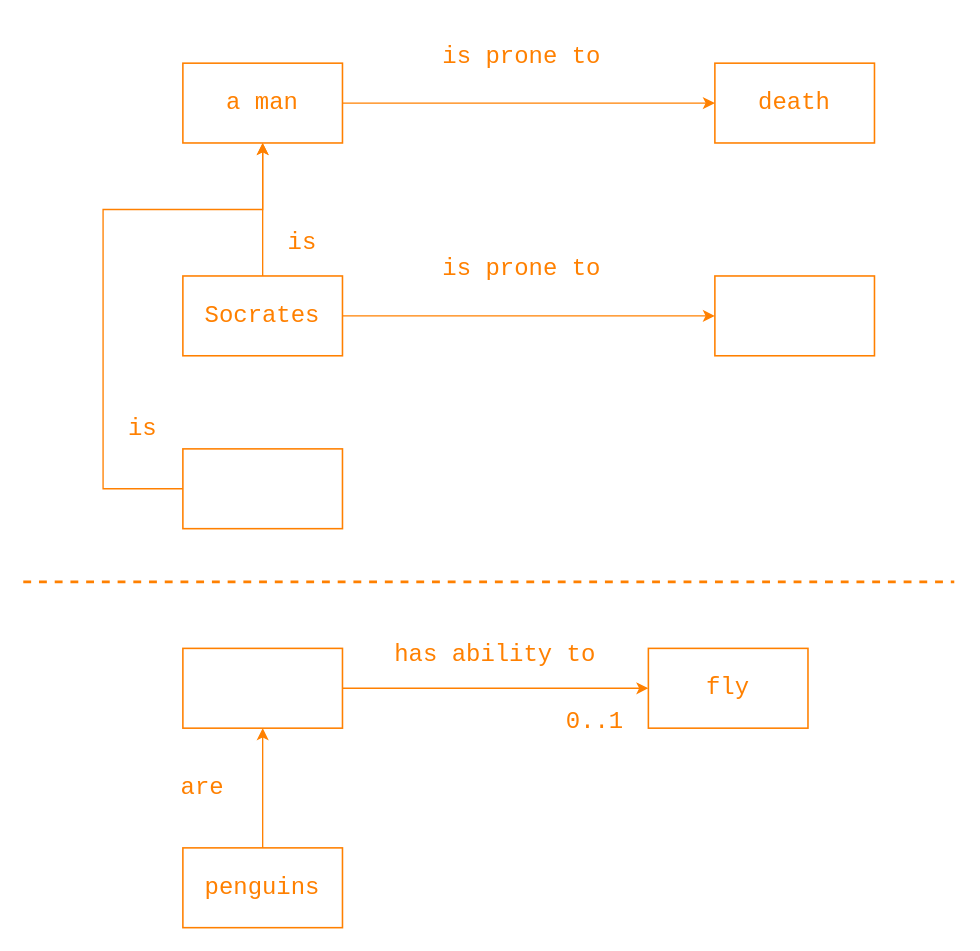
Image size: 980x951. Some labels were removed from this diagram. Each missing label, with the box of its shape:
a bird: (181, 647, 343, 728)
baldness: (713, 275, 875, 356)
Plato: (181, 447, 343, 529)
